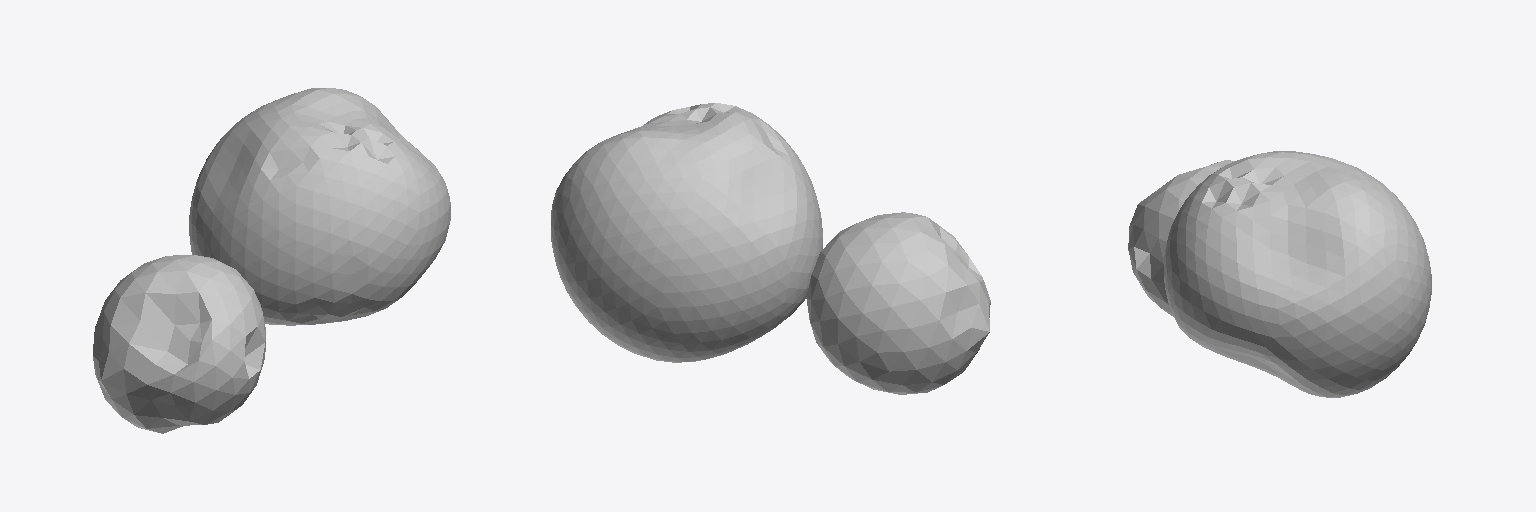
File: ultima-thule-3d_scaled.obj
3 renders of one model, left to right at view 1: azimuth 30°, elevation 25°; view 2: azimuth 150°, elevation 25°; view 3: azimuth 270°, elevation 25°, orthographic.
Visible parts, largest first — view 1: obj; view 2: obj; view 3: obj.
Part boxes in pixels (left/top/right/bottom): obj: left=93, top=88, right=450, bottom=433; obj: left=551, top=103, right=990, bottom=394; obj: left=1128, top=151, right=1431, bottom=397.
Bounding box in the file's own units: 0.0227 × 0.014 × 0.0158.